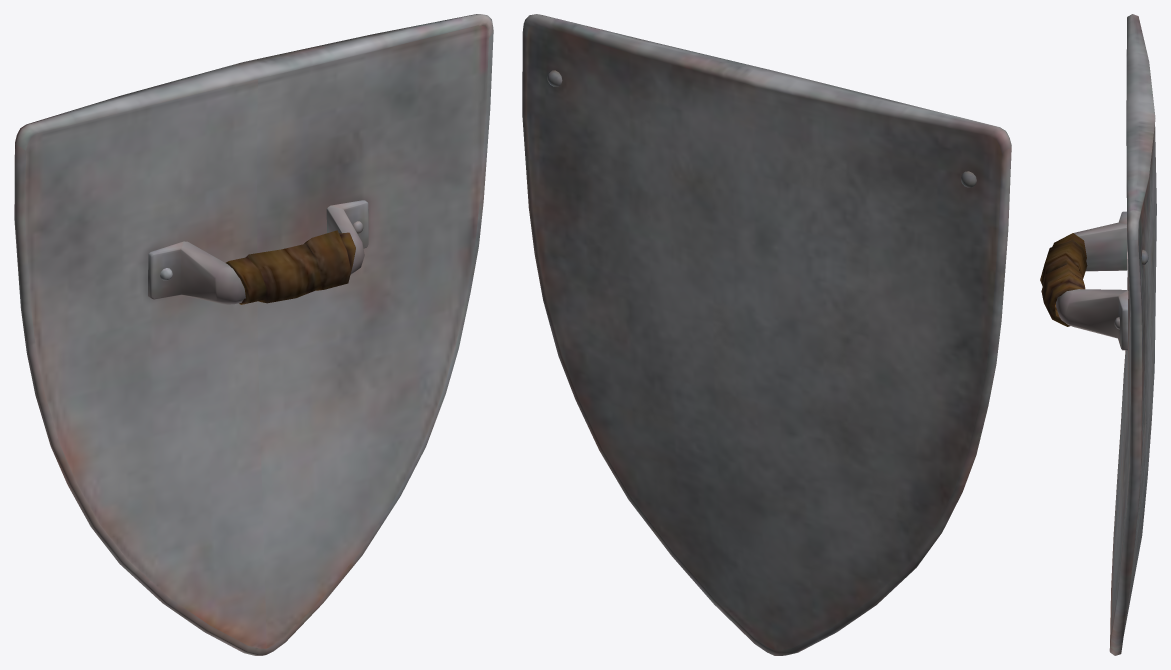
File: weapon-wp_a_2020.glb
The picture shows the model from 3 angles, left to right: view 1: azimuth 30°, elevation 25°; view 2: azimuth 150°, elevation 25°; view 3: azimuth 270°, elevation 25°; orthographic projection. The views are drawn at different scales.
Visible parts, largest first — view 1: wp_a_2020_mesh; view 2: wp_a_2020_mesh; view 3: wp_a_2020_mesh.
Part boxes in pixels (x1,y1,x2,y2): wp_a_2020_mesh: (14, 14, 493, 655); wp_a_2020_mesh: (522, 14, 1011, 655); wp_a_2020_mesh: (1040, 14, 1156, 655).
Bounding box in the file's own units: 0.5642 × 0.6545 × 0.1289.
1 material, 1 textured.
